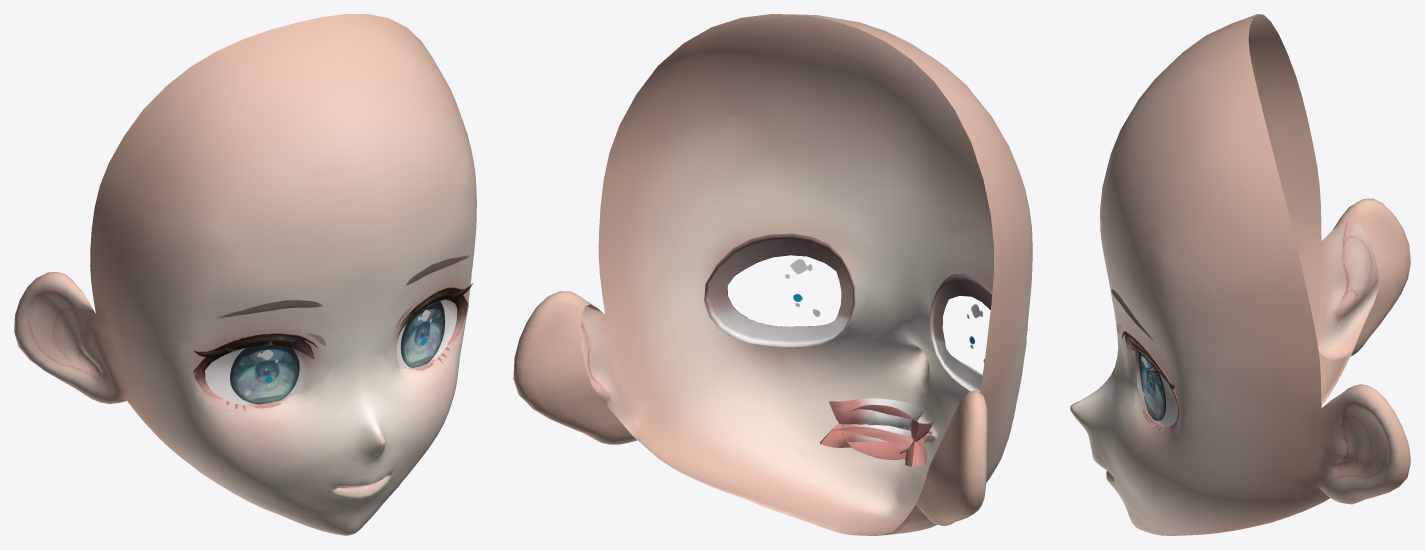
3 renders of one model, left to right at view 1: azimuth 30°, elevation 25°; view 2: azimuth 150°, elevation 25°; view 3: azimuth 270°, elevation 25°, orthographic. The views are drawn at different scales.
Parts seen in each view (by area): view 1: part; view 2: part; view 3: part.
Part boxes in pixels (x1=…): part: x1=14, y1=14, x2=476, y2=535; part: x1=513, y1=14, x2=1032, y2=535; part: x1=1070, y1=14, x2=1410, y2=535.
Bounding box in the file's own units: 0.2019 × 0.2198 × 0.138.
Materials: 8 (8 with a texture image).
